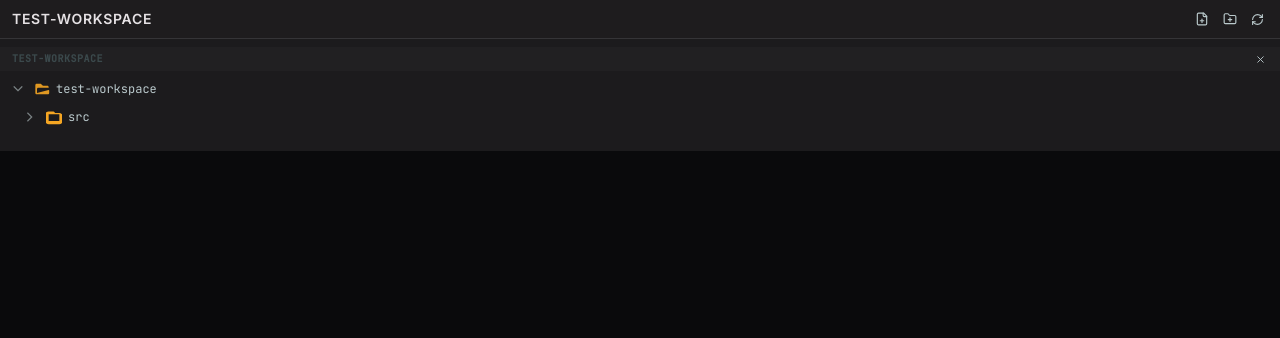
Test: Phase 1: FileExplorer New File and New Folder In-App › blocks creation and displays toast when in Restricted Mode (403)
Step 1. Click the button titled "New File" → (1202, 19), box [1191,8,1213,30]
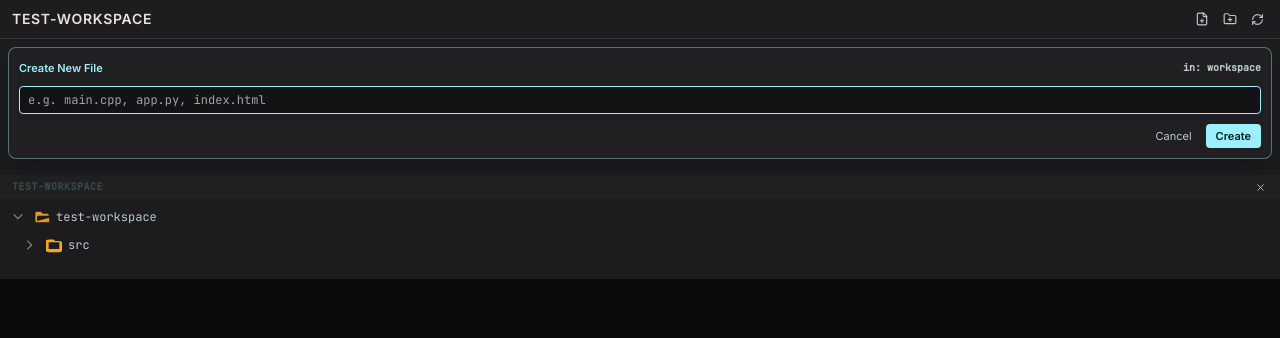
Step 2. Type "restricted_test.ts" into the field with placeholder "e.g. main.cpp, app.py, index.html" → (640, 100), box [19,86,1261,114]
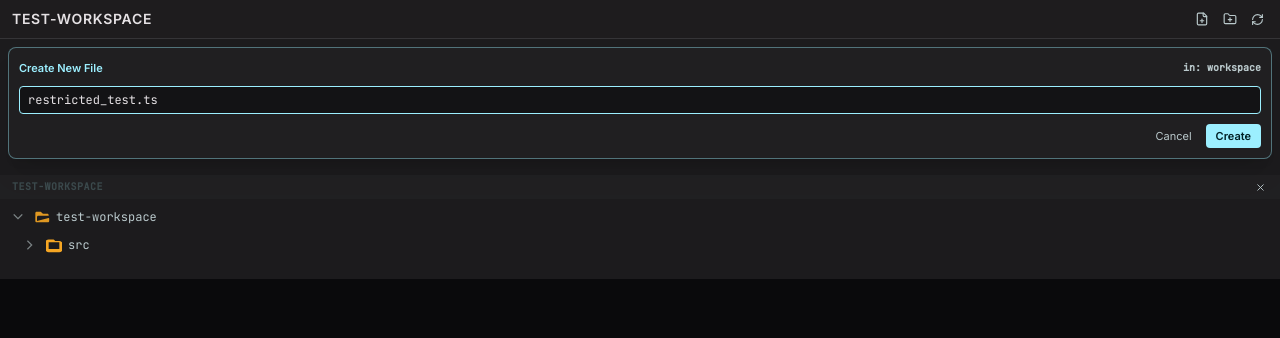
Step 3. Press Enter in the field with placeholder "e.g. main.cpp, app.py, index.html", box [19,86,1261,114]
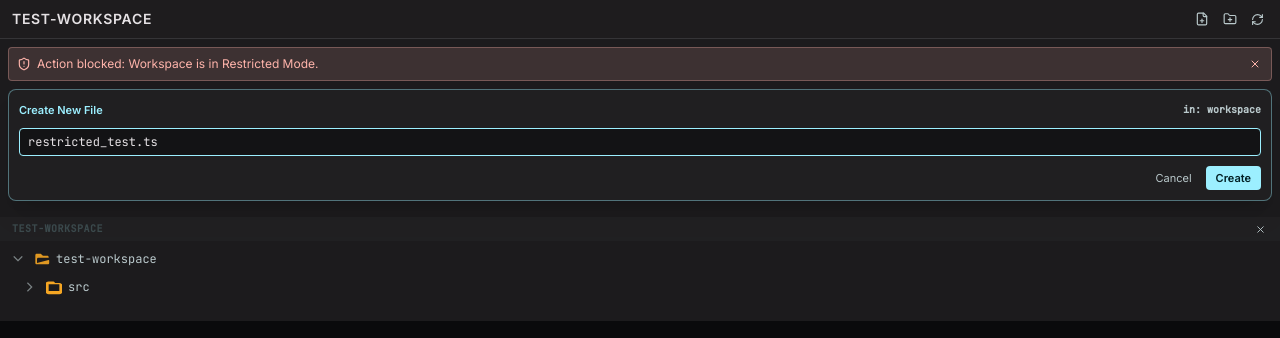
Check: the text "Action blocked: Workspace is in Restricted Mode." is shown, box [37,56,318,72]
